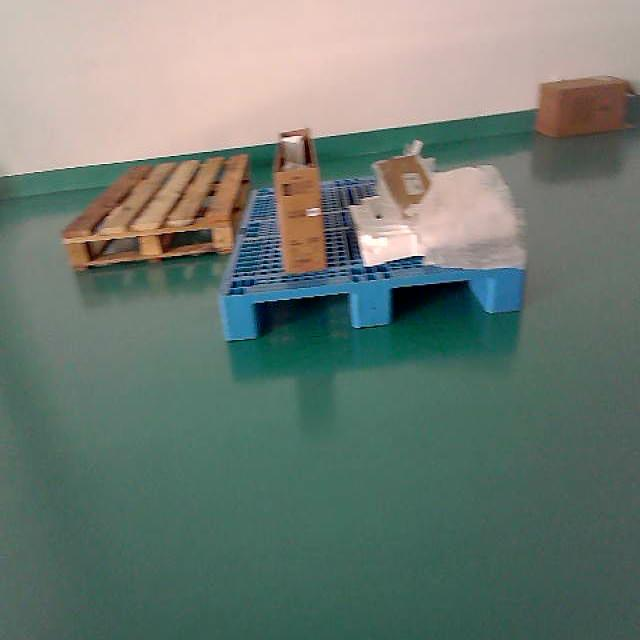euro: (63, 153, 249, 271)
